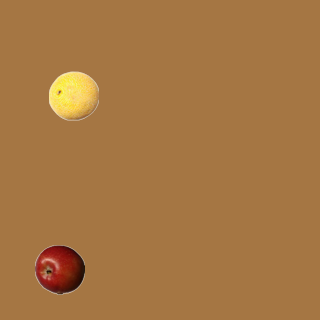Apple Braeburn: (34, 244, 84, 294)
Cantaloupe 1: (48, 70, 98, 120)
